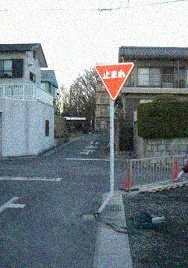Regulatory_sign_triangle: (93, 60, 138, 104)
